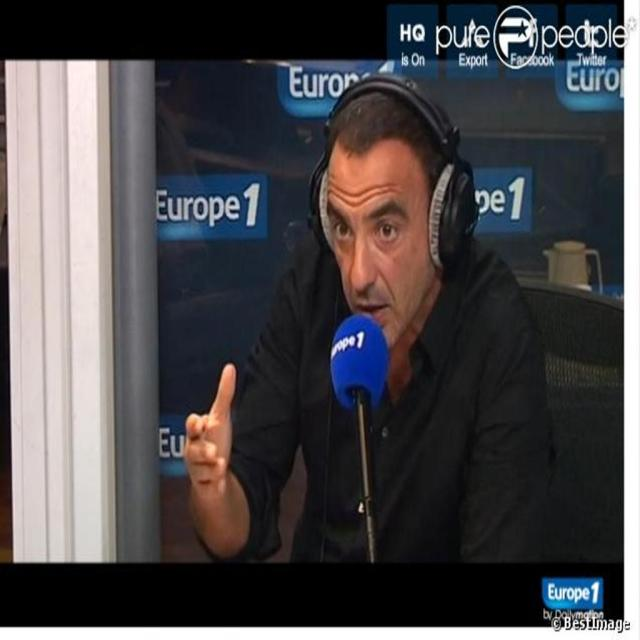Face: (328, 136, 439, 341)
